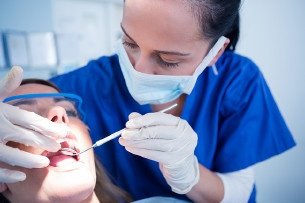Mask: (114, 21, 199, 106)
